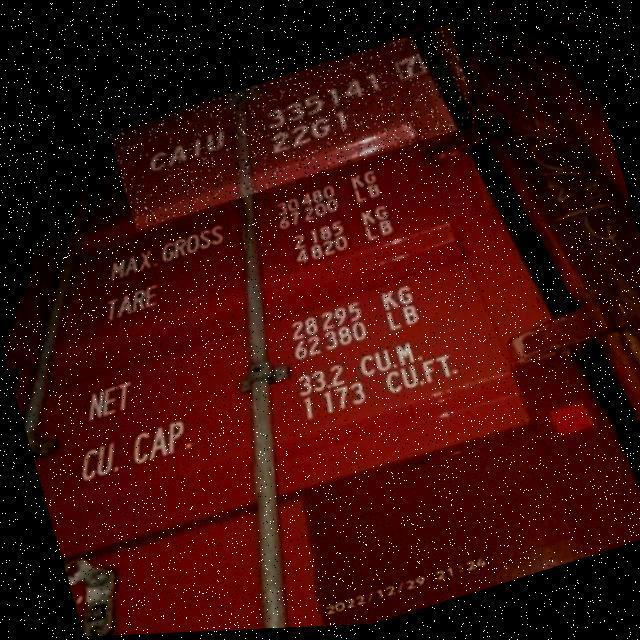container_number_h: (107, 27, 479, 232)
